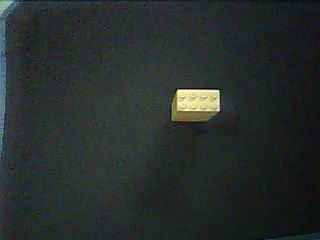lego: (170, 87, 220, 122)
